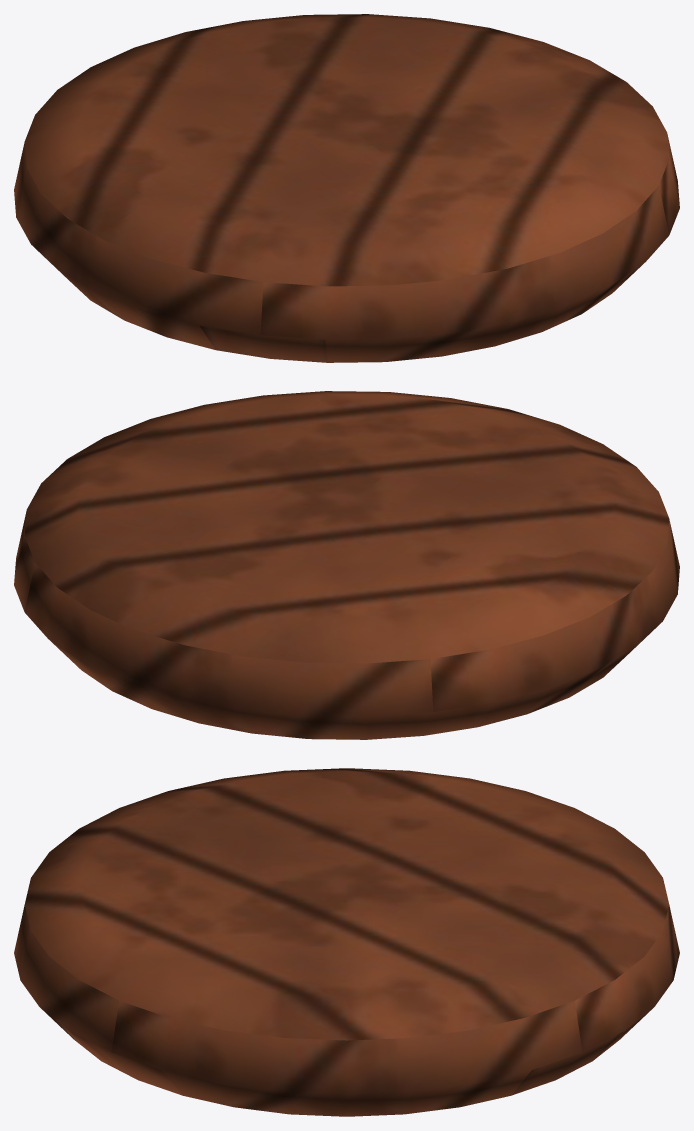
The model's file is PattyCooked.glb.
The picture shows the model from 3 angles, top to bottom: view 1: azimuth 30°, elevation 25°; view 2: azimuth 150°, elevation 25°; view 3: azimuth 270°, elevation 25°; orthographic projection.
Parts seen in each view (by area): view 1: PattyCooked_Body; view 2: PattyCooked_Body; view 3: PattyCooked_Body.
Part boxes in pixels (box(x1,y1,x2,y2)): PattyCooked_Body: box(14, 14, 679, 362); PattyCooked_Body: box(14, 391, 679, 739); PattyCooked_Body: box(14, 768, 679, 1116).
Size of the model in its own units: 0.124 by 0.023 by 0.124.
1 material, 1 textured.
